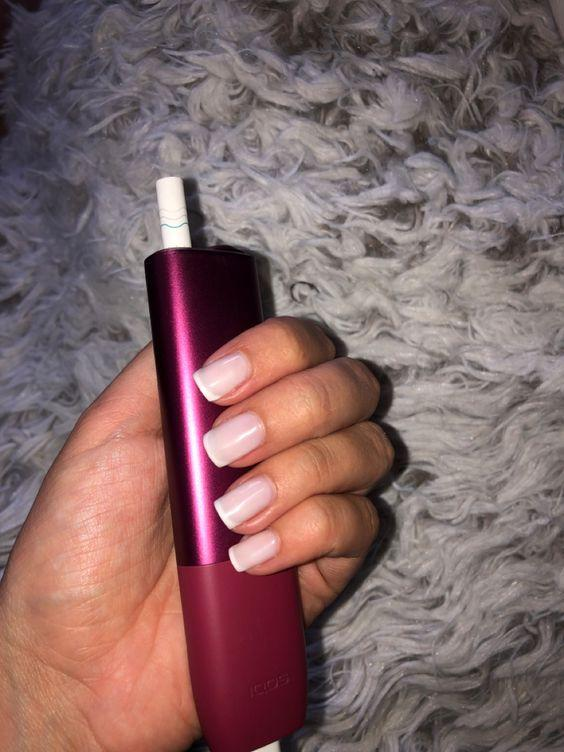iqos: (144, 177, 305, 751)
